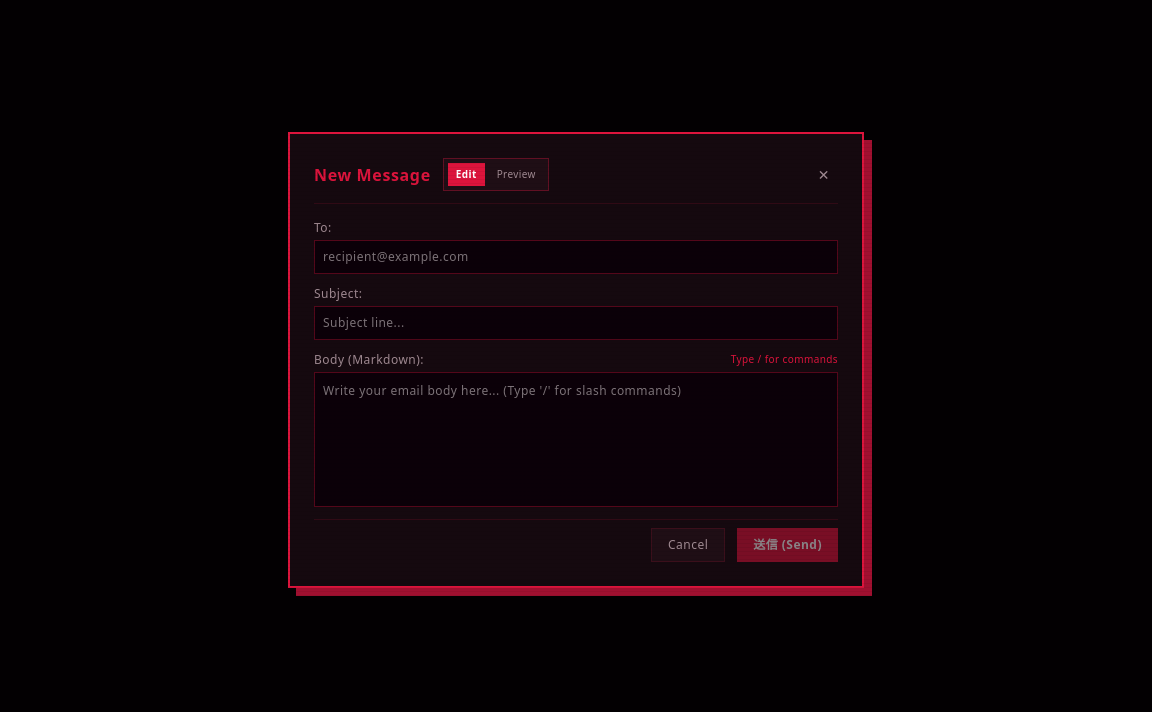
MailComposeModal Component › Tier 2: Boundary & Edge Cases › inserts slash command text into body and closes menu when option is selected
The width and height of the screenshot is (1152, 712).
Type "/" into the text box with test id "compose-body-textarea" at (576, 440), box [314,372,838,507]
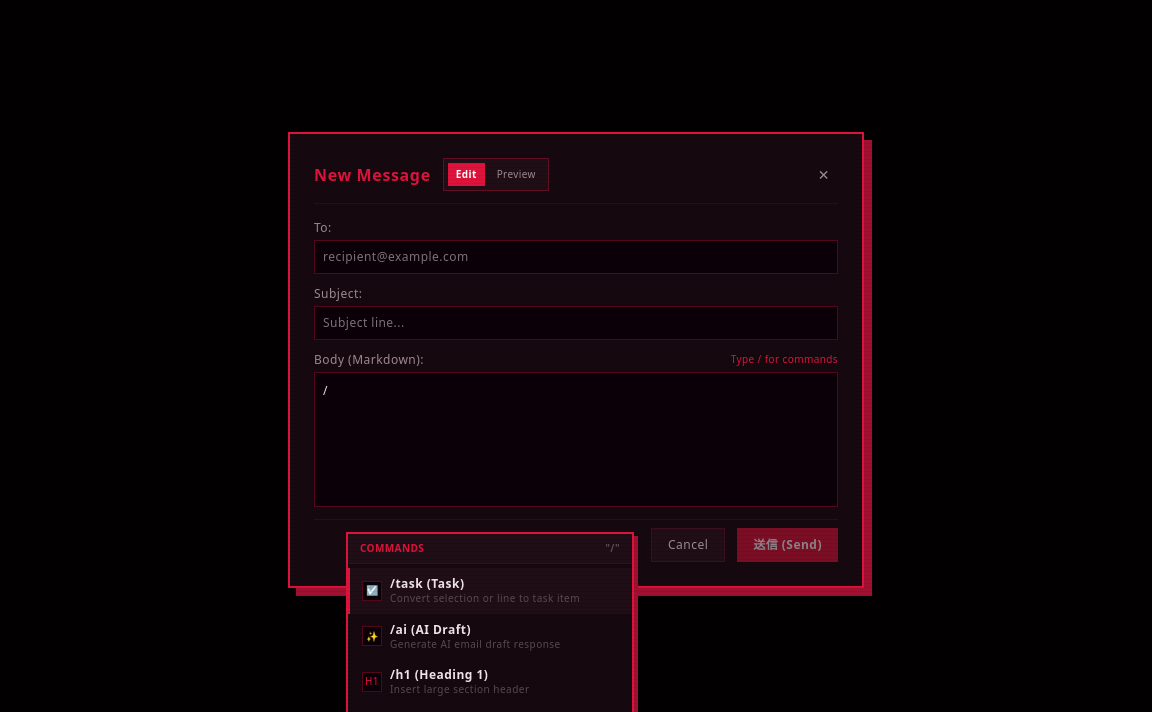
Click the option with test id "slash-option-task" at (490, 591), box [348,568,632,614]
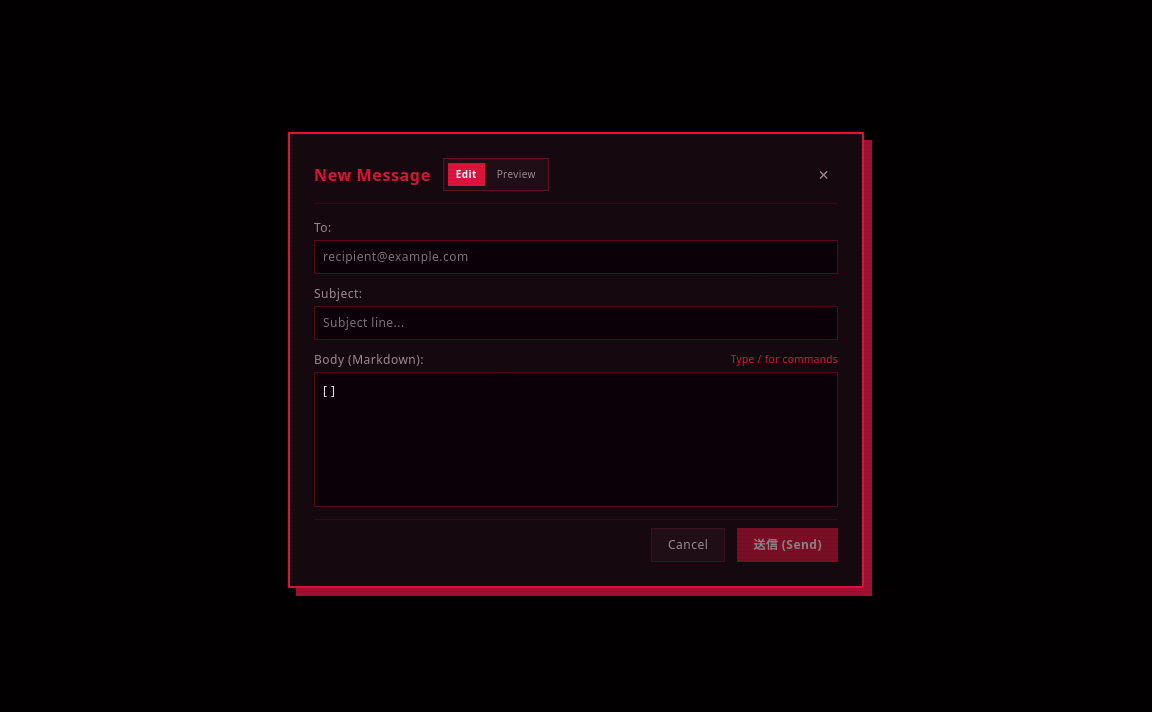
Expected: the text box with test id "compose-body-textarea" holds "[ ] ", [314,372,838,507]
